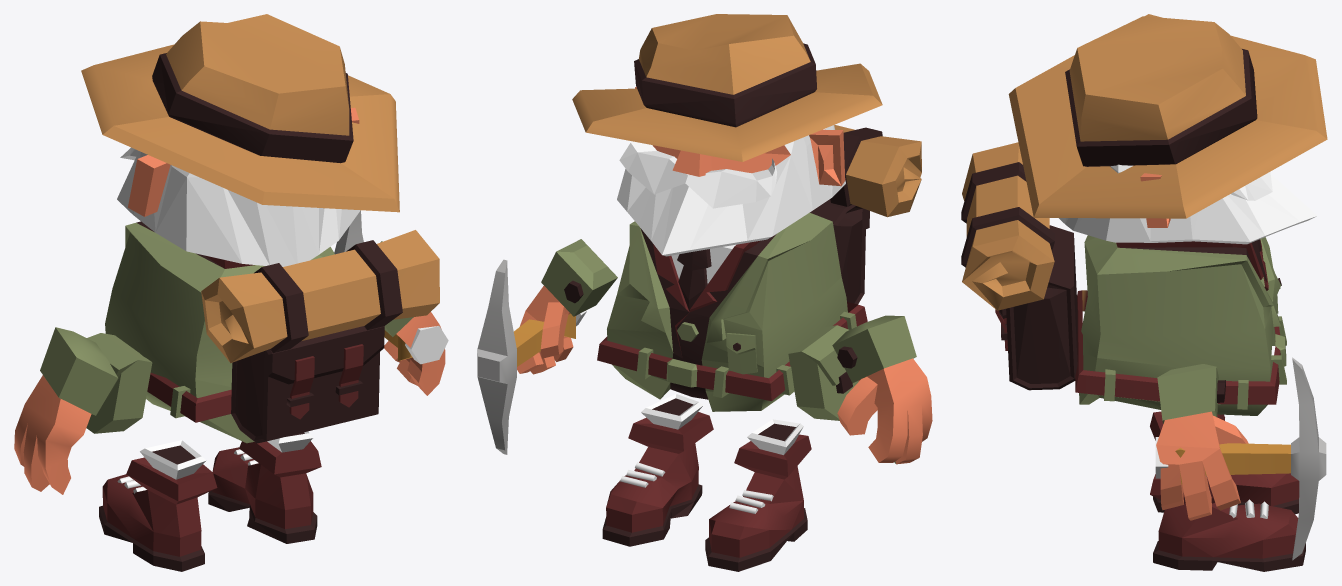
The model's file is playerJumpOneTileDown.fbx.
3 views of the same model, side by side, from view 1: azimuth 30°, elevation 25°; view 2: azimuth 150°, elevation 25°; view 3: azimuth 270°, elevation 25° (orthographic). The views are drawn at different scales.
Visible parts, largest first — view 1: hat, bag, torso, head, left_foot, left_hand, right_foot, righ_hand, rope, pickaxe; view 2: torso, hat, head, left_hand, right_foot, left_foot, bag, pickaxe, righ_hand; view 3: hat, torso, bag, righ_hand, right_foot, head, pickaxe, left_foot.
Boxes of the visible parts, box(x1,y1,x2,y2) form: hat: box(81, 14, 399, 212); bag: box(201, 230, 439, 443); torso: box(86, 221, 334, 443); head: box(117, 107, 360, 266); left_foot: box(99, 440, 217, 571); left_hand: box(14, 327, 118, 494); right_foot: box(208, 431, 321, 543); righ_hand: box(380, 241, 445, 395); rope: box(405, 326, 448, 364); pickaxe: box(334, 210, 412, 360); torso: box(597, 212, 867, 420); hat: box(572, 14, 882, 161); head: box(617, 87, 845, 256); left_hand: box(832, 315, 932, 464); right_foot: box(602, 394, 713, 546); left_foot: box(705, 419, 811, 571); bag: box(810, 125, 921, 304); pickaxe: box(477, 259, 575, 454); righ_hand: box(517, 239, 617, 374); hat: box(1008, 14, 1327, 218); torso: box(1075, 235, 1286, 415); bag: box(961, 142, 1077, 390); righ_hand: box(1156, 364, 1248, 520); right_foot: box(1150, 474, 1305, 571); head: box(1059, 164, 1317, 244); pickaxe: box(1175, 357, 1326, 560); left_foot: box(1150, 411, 1299, 514).
Size of the model in its own units: 7.31 by 8.78 by 5.81.
